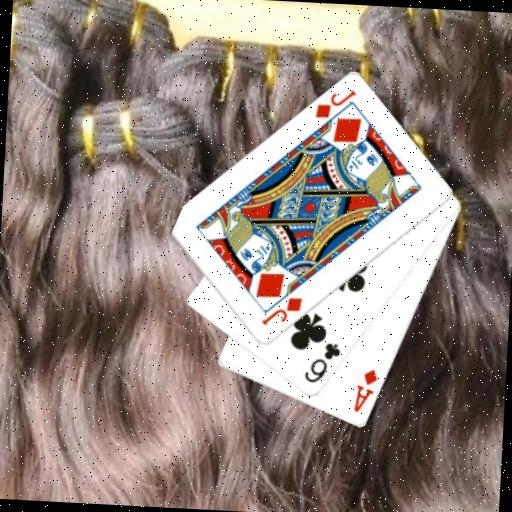6C: (301, 339, 343, 387)
AD: (350, 366, 380, 416)
JD: (312, 85, 359, 123), (258, 293, 305, 330)
